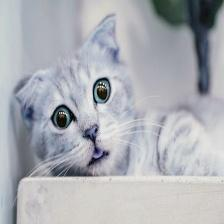kedo: (17, 16, 138, 177)
